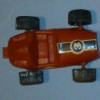rojo: (4, 11, 100, 83)
